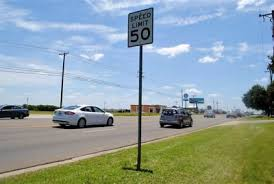speedLimit50: (126, 5, 156, 48)
